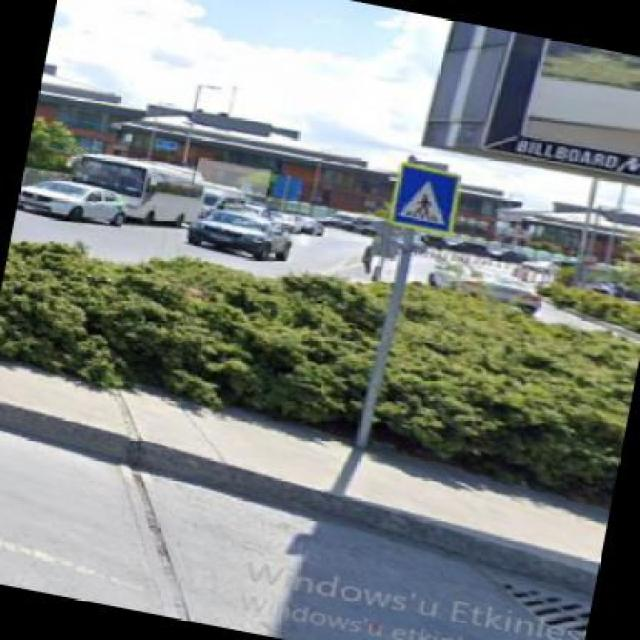yaya: (397, 168, 455, 232)
